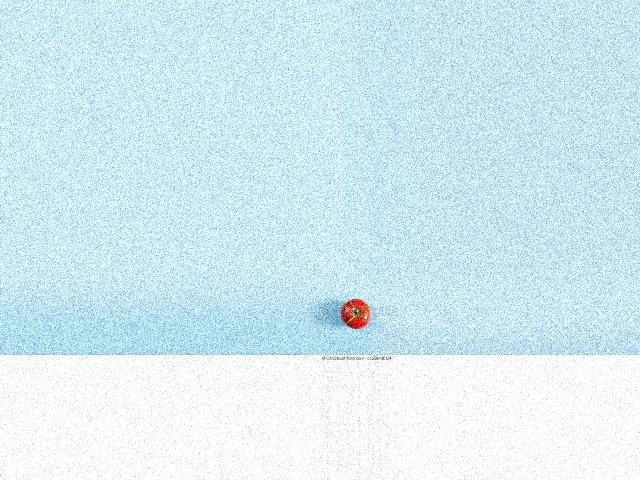tomato: (341, 299, 370, 330)
